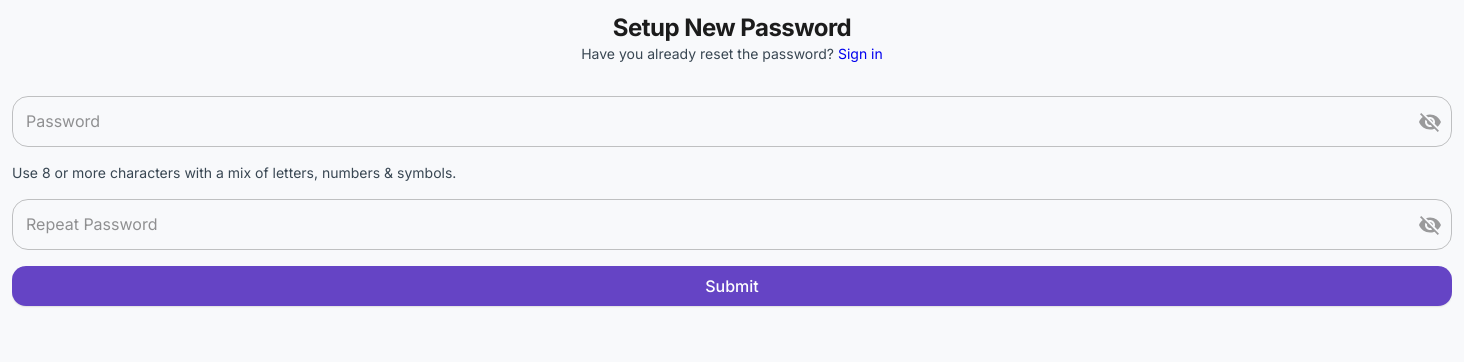
Test: Set Password Form › should show validation errors
Click the button "Submit".
click(732, 286)  # box [12,266,1452,306]
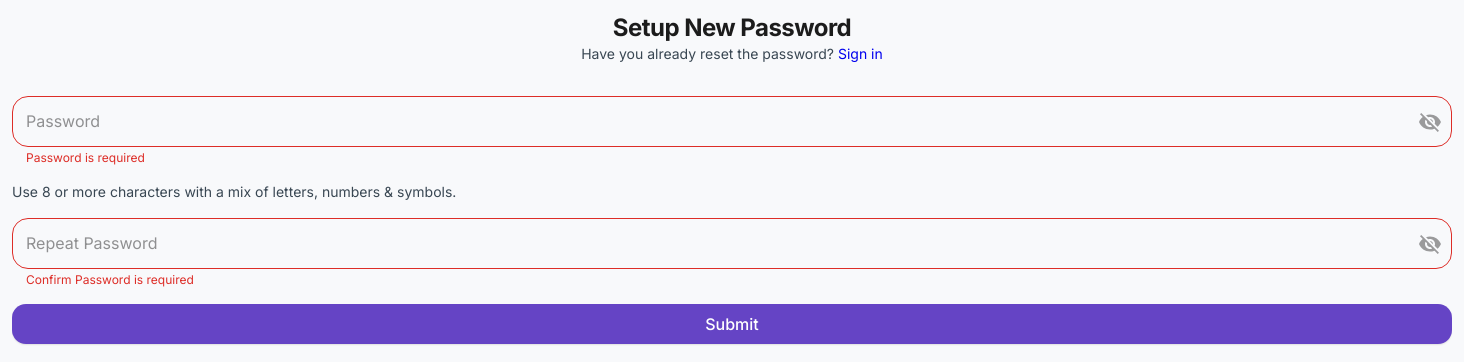
Result: the text "Password is required" is shown at [26,150,145,165]
Result: the text "Confirm Password is required" is shown at [26,272,194,287]
